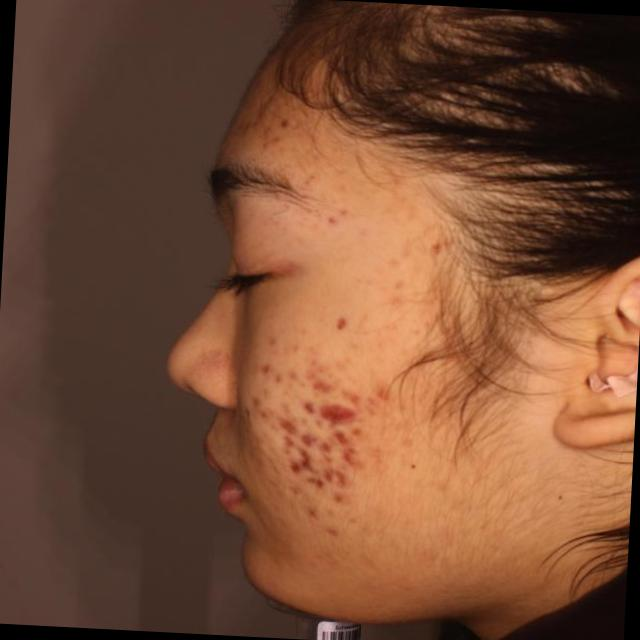acne: (244, 355, 281, 394), (331, 312, 364, 338), (429, 231, 454, 259), (300, 426, 330, 446), (381, 380, 404, 406), (242, 387, 266, 411), (303, 360, 331, 380), (338, 442, 364, 463), (302, 468, 322, 493), (274, 114, 294, 138), (290, 447, 312, 468), (303, 391, 323, 414), (307, 376, 335, 392), (346, 420, 370, 438), (327, 424, 348, 444), (333, 469, 350, 493), (331, 406, 356, 422), (312, 437, 336, 453), (343, 382, 363, 401), (324, 526, 342, 546), (274, 414, 297, 429), (279, 432, 300, 448), (304, 502, 322, 520), (318, 461, 339, 476), (328, 490, 343, 510)
